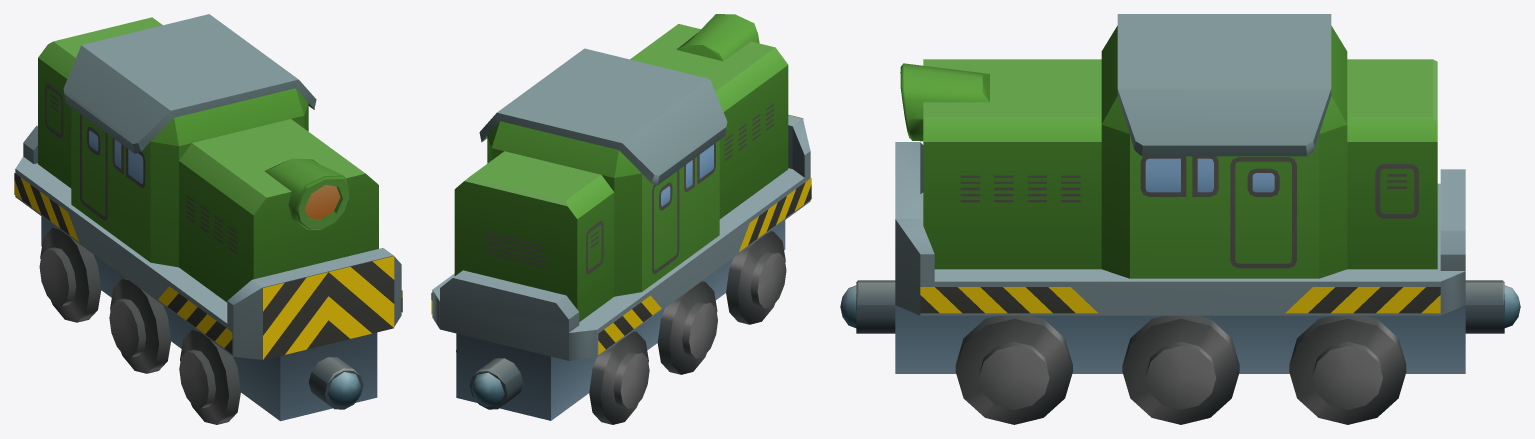
The model's file is Electric_Locomotive_A.fbx.
The picture shows the model from 3 angles, left to right: view 1: azimuth 30°, elevation 25°; view 2: azimuth 150°, elevation 25°; view 3: azimuth 270°, elevation 25°; orthographic projection. The views are drawn at different scales.
Parts seen in each view (by area): view 1: Electric_Locomotive_A; view 2: Electric_Locomotive_A; view 3: Electric_Locomotive_A.
Part boxes in pixels (bbox=[...]): Electric_Locomotive_A: bbox=[14, 14, 402, 424]; Electric_Locomotive_A: bbox=[431, 14, 811, 424]; Electric_Locomotive_A: bbox=[840, 14, 1520, 424].
Bounding box in the file's own units: 300 × 434 × 810.
